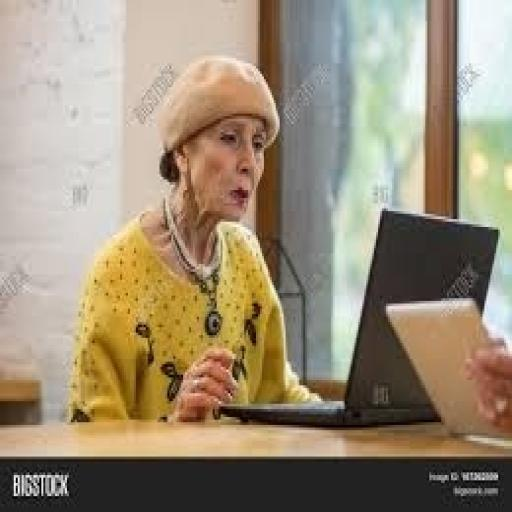using_laptop: (217, 203, 500, 428)
